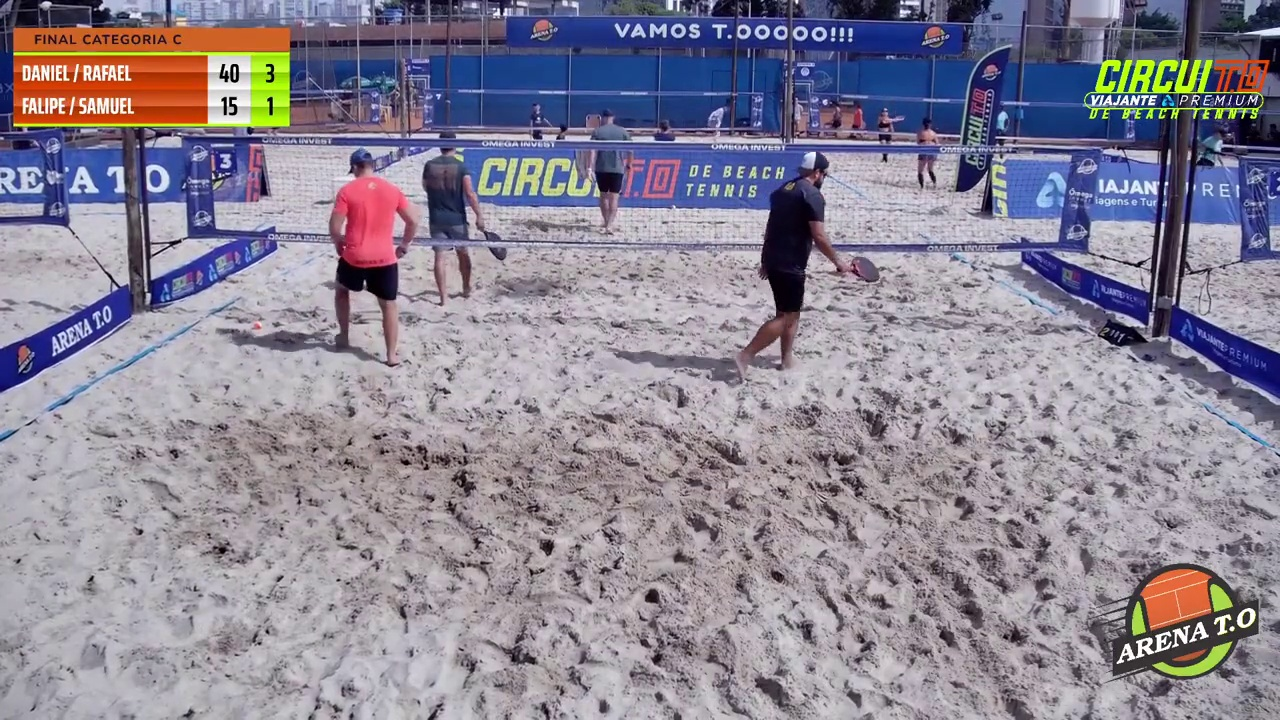court_line: (628, 0, 801, 398)
